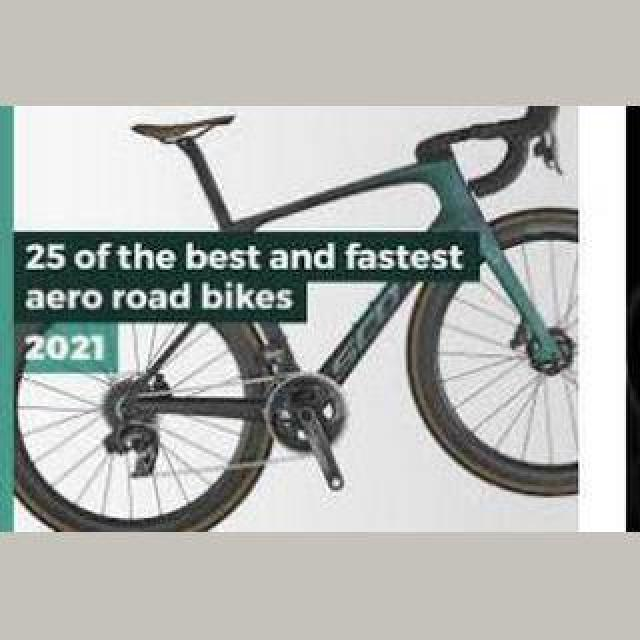Person: (12, 108, 576, 532)
